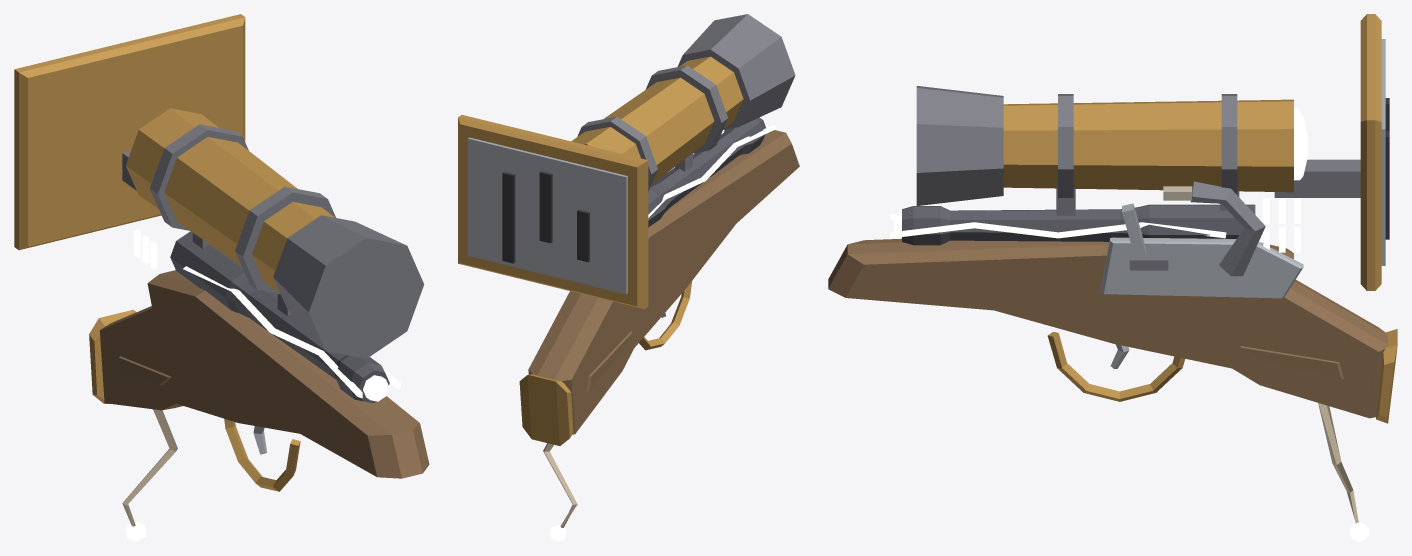
The model's file is gun-dark-lens.glb.
3 views of the same model, side by side, from view 1: azimuth 30°, elevation 25°; view 2: azimuth 150°, elevation 25°; view 3: azimuth 270°, elevation 25° (orthographic). The views are drawn at different scales.
Parts seen in each view (by area): view 1: gun-dark-lens, pulse_vein, sway_sinew, pulse_breath; view 2: gun-dark-lens, pulse_vein, sway_sinew; view 3: gun-dark-lens, pulse_vein, sway_sinew, pulse_breath.
Boxes of the visible parts, x1,y1,x2,y2 form: gun-dark-lens: [14, 14, 429, 491]; pulse_vein: [183, 266, 400, 398]; sway_sinew: [122, 409, 177, 541]; pulse_breath: [134, 229, 157, 269]; gun-dark-lens: [458, 14, 799, 445]; pulse_vein: [648, 124, 777, 217]; sway_sinew: [543, 443, 577, 541]; gun-dark-lens: [828, 14, 1397, 423]; pulse_vein: [890, 208, 1226, 238]; sway_sinew: [1318, 403, 1368, 541]; pulse_breath: [1263, 198, 1300, 252].
Bounding box in the file's own units: 0.26 × 0.542 × 0.5891.
